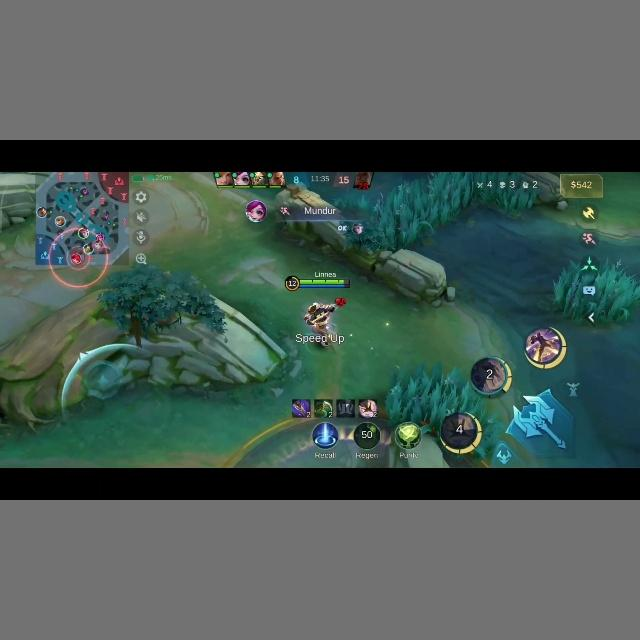hp_self: (281, 275, 348, 291)
